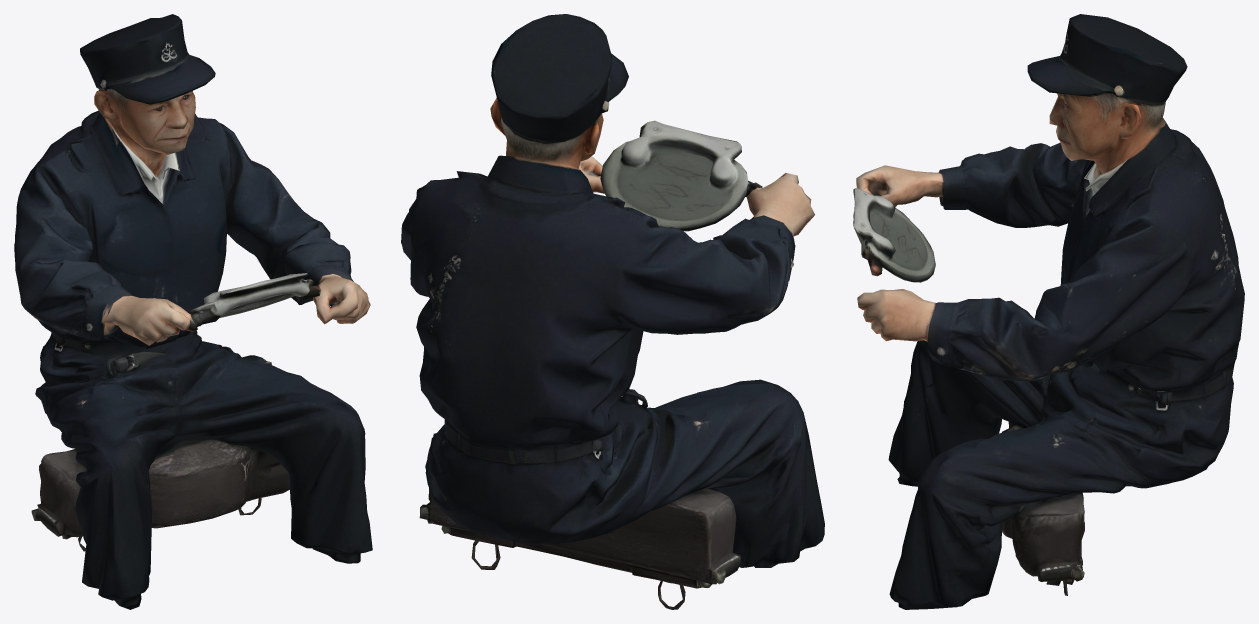
The model's file is bus-driver-v2.glb.
3 views of the same model, side by side, from view 1: azimuth 30°, elevation 25°; view 2: azimuth 150°, elevation 25°; view 3: azimuth 270°, elevation 25° (orthographic). The views are drawn at different scales.
Parts seen in each view (by area): view 1: tripo_node_0627622a-36ce-45ed-a004-41330354135e; view 2: tripo_node_0627622a-36ce-45ed-a004-41330354135e; view 3: tripo_node_0627622a-36ce-45ed-a004-41330354135e.
Boxes of the visible parts, x1=… form: tripo_node_0627622a-36ce-45ed-a004-41330354135e: x1=14, y1=14, x2=372, y2=609; tripo_node_0627622a-36ce-45ed-a004-41330354135e: x1=401, y1=14, x2=824, y2=609; tripo_node_0627622a-36ce-45ed-a004-41330354135e: x1=853, y1=14, x2=1244, y2=609.
Size of the model in its own units: 0.6283 by 0.9795 by 0.6551.
1 material, 1 textured.
